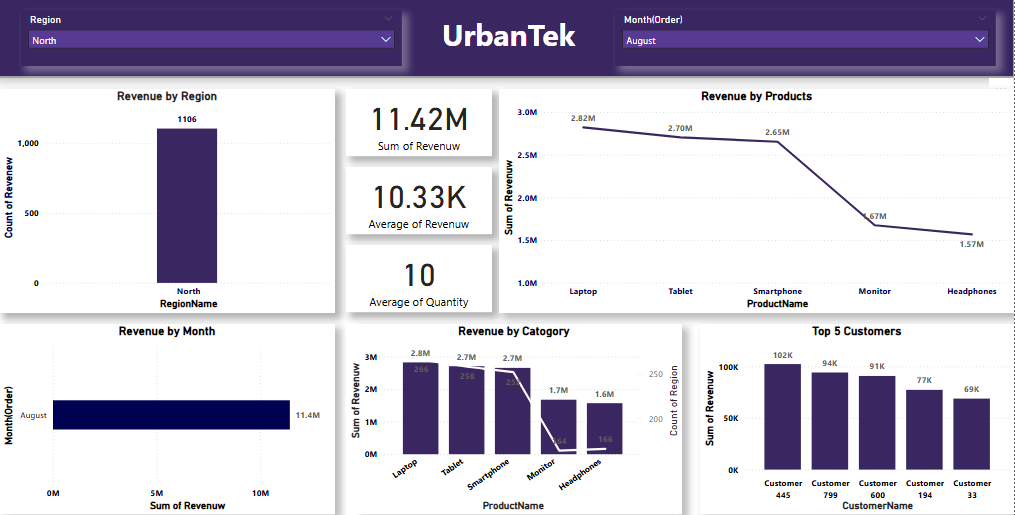

This screenshot's page, from the dashboard's own definition file:
{"tool":"powerbi","page":{"name":"Page 1","canvas":[1450,741],"ordinal":0},"visuals":[{"type":"shape","box":[-6,0,1456,112],"z":0},{"type":"shape","box":[0,128,480,320],"z":1000},{"type":"shape","box":[714,128,736,320],"z":2000},{"type":"shape","box":[0,464,480,272],"z":3000},{"type":"shape","box":[512,464,464,272],"z":4000},{"type":"shape","box":[1002,464,448,272],"z":5000},{"type":"shape","box":[496,128,208,96],"z":6000},{"type":"shape","box":[496,240,208,96],"z":7000},{"type":"shape","box":[496,352,208,96],"z":8000},{"type":"textbox","box":[576,16,304,80],"z":9000},{"type":"columnChart","title":"Revenue by Region","fields":{"Category":["Dim_Region.RegionName"],"Y":["CountNonNull(Sales_Orders.Revenew)"]},"box":[0,128,480,320],"z":10000},{"type":"card","fields":{"Values":["Sum(Sales_Orders.Revenuw)"]},"box":[496,128,208,96],"z":11000},{"type":"lineChart","title":"Revenue by Products","fields":{"Category":["Dim_Products.ProductName"],"Y":["Sum(Sales_Orders.Revenuw)"]},"box":[714,128,736,320],"z":12000},{"type":"card","fields":{"Values":["Avg(Sales_Orders.Revenuw)"]},"box":[496,240,208,96],"z":13000},{"type":"card","fields":{"Values":["Avg(Sales_Orders.Quantity)"]},"box":[496,352,208,96],"z":14000},{"type":"barChart","title":"Revenue by Month","fields":{"Category":["Sales_Orders.Month(Order)"],"Y":["Sum(Sales_Orders.Revenuw)"]},"box":[0,464,480,272],"z":15000},{"type":"lineStackedColumnComboChart","title":"Revenue by Catogory","fields":{"Category":["Dim_Products.ProductName"],"Y":["Sum(Sales_Orders.Revenuw)"],"Y2":["CountNonNull(Sales_Orders.Region)"]},"box":[496,464,480,272],"z":16000},{"type":"columnChart","title":"Top 5 Customers","fields":{"Category":["Dim_Customers.CustomerName"],"Y":["Sum(Sales_Orders.Revenuw)"]},"box":[1002,464,448,272],"z":17000},{"type":"slicer","fields":{"Values":["Sales_Orders.Region"]},"box":[32,16,544,80],"z":18000},{"type":"slicer","fields":{"Values":["Sales_Orders.Month(Order)"]},"box":[880,16,544,80],"z":19000}]}

Visuals, with their boxes in screenshot pixels (x1, y1, x2, y2), scaled from the page's 1450x741 canvas onto the 1015x515 screenshot:
shape: crop(0, 0, 1014, 78)
shape: crop(0, 89, 336, 311)
shape: crop(500, 89, 1014, 311)
shape: crop(0, 322, 336, 512)
shape: crop(358, 322, 683, 512)
shape: crop(701, 322, 1014, 512)
shape: crop(347, 89, 493, 156)
shape: crop(347, 167, 493, 234)
shape: crop(347, 245, 493, 311)
textbox: crop(403, 11, 616, 67)
"Revenue by Region" columnChart: crop(0, 89, 336, 311)
card - Sum(Sales_Orders.Revenuw): crop(347, 89, 493, 156)
"Revenue by Products" lineChart: crop(500, 89, 1014, 311)
card - Avg(Sales_Orders.Revenuw): crop(347, 167, 493, 234)
card - Avg(Sales_Orders.Quantity): crop(347, 245, 493, 311)
"Revenue by Month" barChart: crop(0, 322, 336, 512)
"Revenue by Catogory" lineStackedColumnComboChart: crop(347, 322, 683, 512)
"Top 5 Customers" columnChart: crop(701, 322, 1014, 512)
slicer - Sales_Orders.Region: crop(22, 11, 403, 67)
slicer - Sales_Orders.Month(Order): crop(616, 11, 997, 67)
